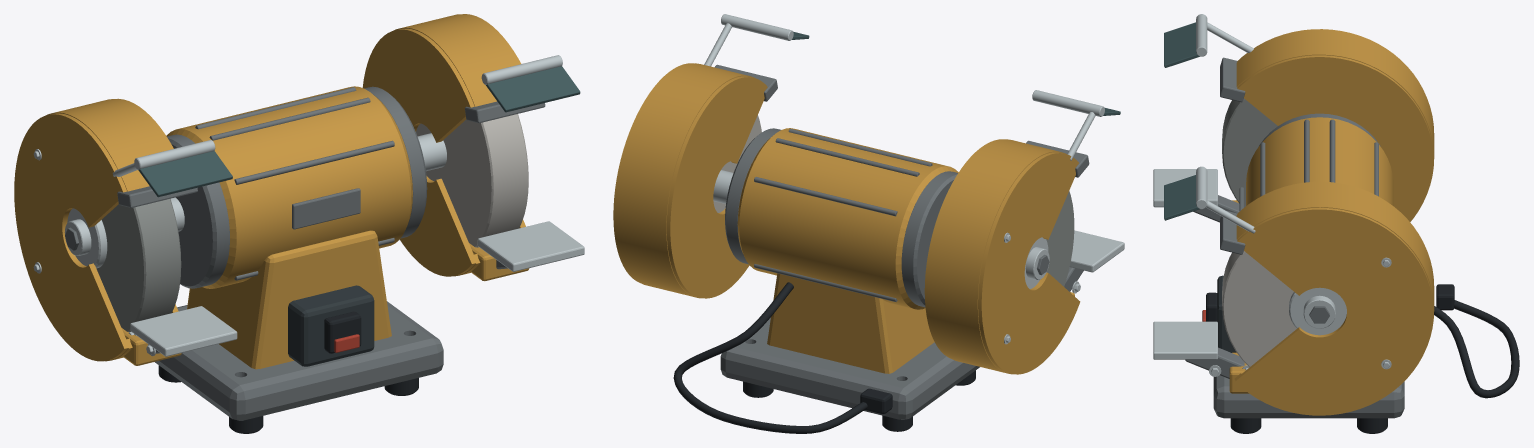
Rendered from city-double-wheel-bench-grinder.glb.
3 views of the same model, side by side, from view 1: azimuth 30°, elevation 25°; view 2: azimuth 150°, elevation 25°; view 3: azimuth 270°, elevation 25° (orthographic). The views are drawn at different scales.
Parts seen in each view (by area): view 1: Assembly | Ochre grinder enamel, Assembly | Grey cast iron, Assembly | Satin steel, Assembly | Fine abrasive stone, Assembly | Coarse abrasive stone, Assembly | Unlit opaque display, Assembly | Graphite painted frame, Assembly | Black cable and rubber; view 2: Assembly | Ochre grinder enamel, Assembly | Grey cast iron, Assembly | Satin steel, Assembly | Black cable and rubber, Assembly | Coarse abrasive stone, Assembly | Fine abrasive stone; view 3: Assembly | Ochre grinder enamel, Assembly | Grey cast iron, Assembly | Satin steel, Assembly | Fine abrasive stone, Assembly | Black cable and rubber, Assembly | Coarse abrasive stone, Assembly | Unlit opaque display, Assembly | Graphite painted frame.
Part boxes in pixels (bbox=[...]): Assembly | Ochre grinder enamel: bbox=[14, 14, 529, 369]; Assembly | Grey cast iron: bbox=[65, 86, 545, 420]; Assembly | Satin steel: bbox=[33, 55, 584, 356]; Assembly | Fine abrasive stone: bbox=[416, 114, 528, 247]; Assembly | Coarse abrasive stone: bbox=[96, 198, 181, 332]; Assembly | Unlit opaque display: bbox=[138, 66, 580, 197]; Assembly | Graphite painted frame: bbox=[288, 285, 374, 366]; Assembly | Black cable and rubber: bbox=[158, 311, 418, 433]; Assembly | Ochre grinder enamel: bbox=[613, 63, 1080, 374]; Assembly | Grey cast iron: bbox=[714, 64, 1089, 419]; Assembly | Satin steel: bbox=[704, 14, 1124, 344]; Assembly | Black cable and rubber: bbox=[673, 282, 975, 433]; Assembly | Coarse abrasive stone: bbox=[1046, 191, 1074, 286]; Assembly | Fine abrasive stone: bbox=[713, 115, 761, 212]; Assembly | Ochre grinder enamel: bbox=[1229, 29, 1434, 415]; Assembly | Grey cast iron: bbox=[1185, 57, 1404, 418]; Assembly | Satin steel: bbox=[1153, 14, 1391, 376]; Assembly | Fine abrasive stone: bbox=[1222, 251, 1296, 367]; Assembly | Black cable and rubber: bbox=[1206, 284, 1519, 433]; Assembly | Coarse abrasive stone: bbox=[1222, 98, 1277, 207]; Assembly | Unlit opaque display: bbox=[1164, 22, 1199, 220]; Assembly | Graphite painted frame: bbox=[1217, 275, 1236, 352].
Size of the model in its own units: 0.6283 by 0.452 by 0.5217.
